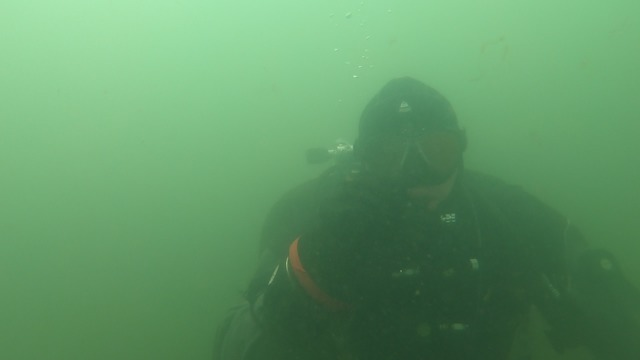Diver: (198, 72, 631, 355)
Hand: (286, 172, 441, 278)
Head: (340, 76, 479, 245)
